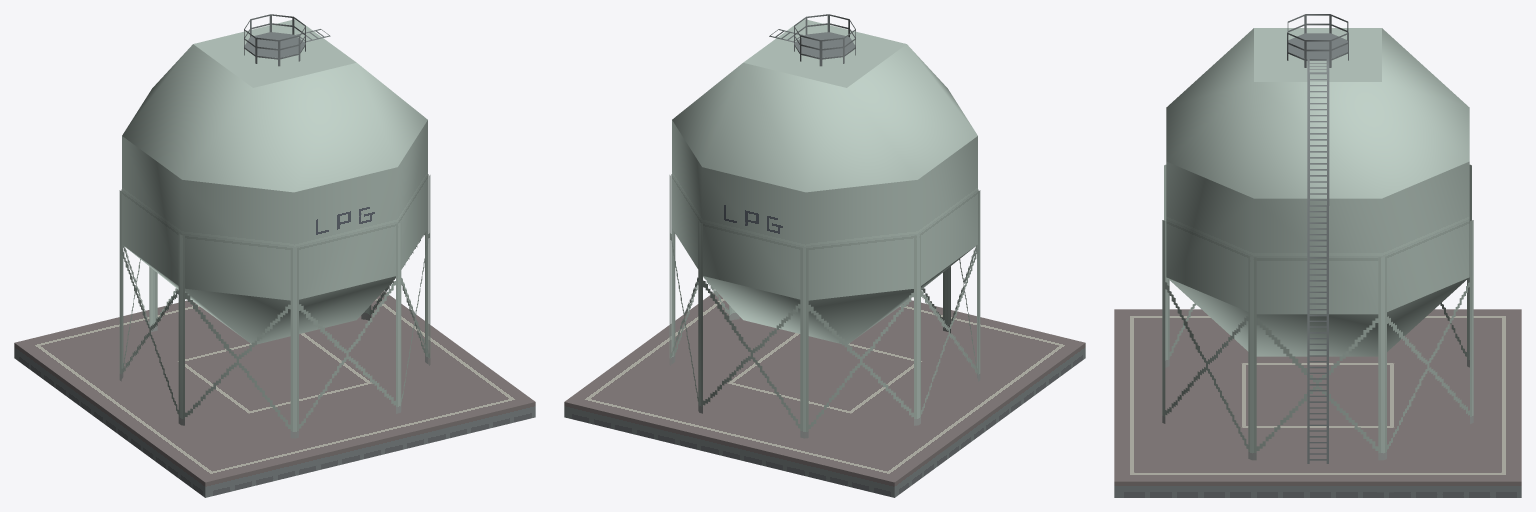
The model's file is 02bb_Gas_Tank.glb.
3 views of the same model, side by side, from view 1: azimuth 30°, elevation 25°; view 2: azimuth 150°, elevation 25°; view 3: azimuth 270°, elevation 25° (orthographic). The views are drawn at different scales.
Visible parts, largest first — view 1: part_0; view 2: part_0; view 3: part_0.
Boxes of the visible parts, x1,y1,x2,y2 form: part_0: [14, 14, 535, 497]; part_0: [564, 14, 1085, 497]; part_0: [1114, 14, 1521, 497].
Bounding box in the file's own units: 36.27 × 37.83 × 36.31.
Materials: 1 (1 with a texture image).
